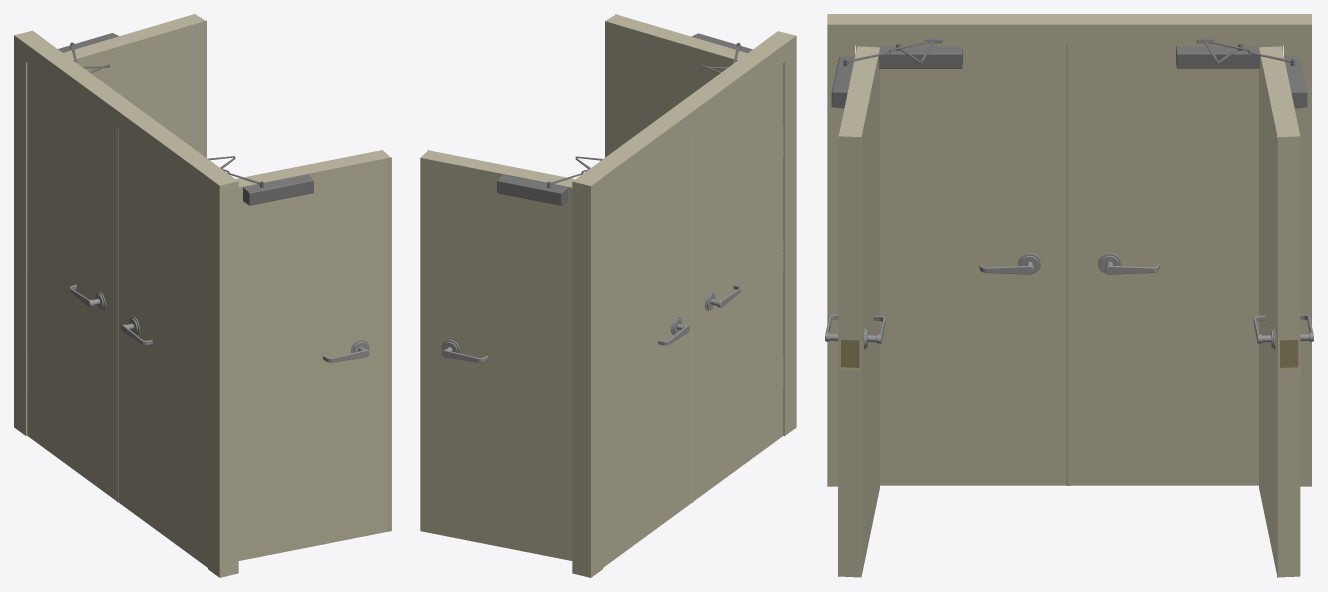
File: MainDoor.FBX
3 renders of one model, left to right at view 1: azimuth 30°, elevation 25°; view 2: azimuth 150°, elevation 25°; view 3: azimuth 270°, elevation 25°, orthographic. The views are drawn at different scales.
Visible parts, largest first — view 1: Door_Open_1, Door_Close_2, Door_Close_1, Door_Frame, Door_Open_2; view 2: Door_Open_2, Door_Close_2, Door_Close_1, Door_Frame, Door_Open_1; view 3: Door_Close_1, Door_Close_2, Door_Frame, Door_Open_2, Door_Open_1.
Part boxes in pixels (x1,y1,x2,y2): Door_Open_1: [221, 150, 391, 560]; Door_Close_2: [27, 63, 118, 502]; Door_Close_1: [118, 129, 235, 567]; Door_Frame: [14, 30, 238, 577]; Door_Open_2: [58, 14, 206, 157]; Door_Open_2: [420, 150, 589, 560]; Door_Close_2: [575, 129, 693, 567]; Door_Close_1: [693, 63, 783, 500]; Door_Frame: [572, 31, 796, 577]; Door_Open_1: [605, 14, 752, 157]; Door_Close_1: [856, 41, 1070, 485]; Door_Close_2: [1070, 41, 1283, 485]; Door_Frame: [827, 14, 1311, 486]; Door_Open_2: [1205, 41, 1313, 577]; Door_Open_1: [825, 41, 933, 577].
Size of the model in its own units: 43.84 by 86.61 by 83.06.
